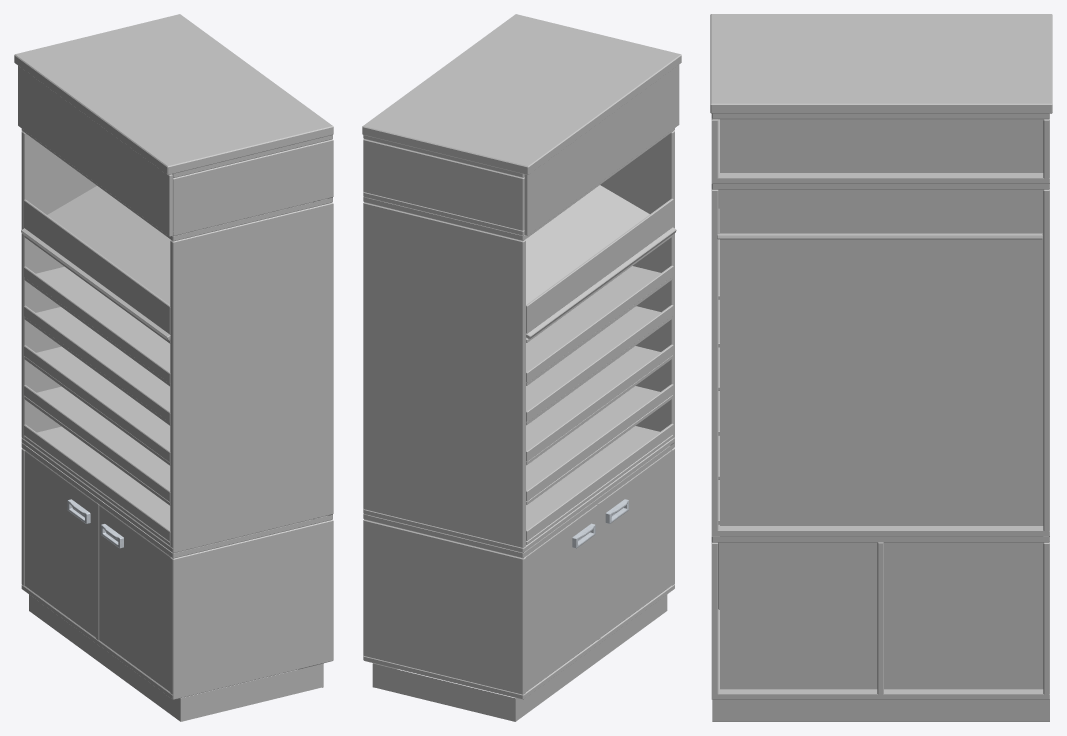
File: SM_Cupboard.fbx
3 renders of one model, left to right at view 1: azimuth 30°, elevation 25°; view 2: azimuth 150°, elevation 25°; view 3: azimuth 270°, elevation 25°, orthographic. The views are drawn at different scales.
Visible parts, largest first — view 1: SM_Cupboard_LOD0; view 2: SM_Cupboard_LOD0; view 3: SM_Cupboard_LOD0.
Part boxes in pixels (<box>): SM_Cupboard_LOD0: <box>14,14,333,721</box>; SM_Cupboard_LOD0: <box>362,14,681,721</box>; SM_Cupboard_LOD0: <box>710,14,1052,721</box>.
Size of the model in its own units: 83.94 by 133 by 267.
